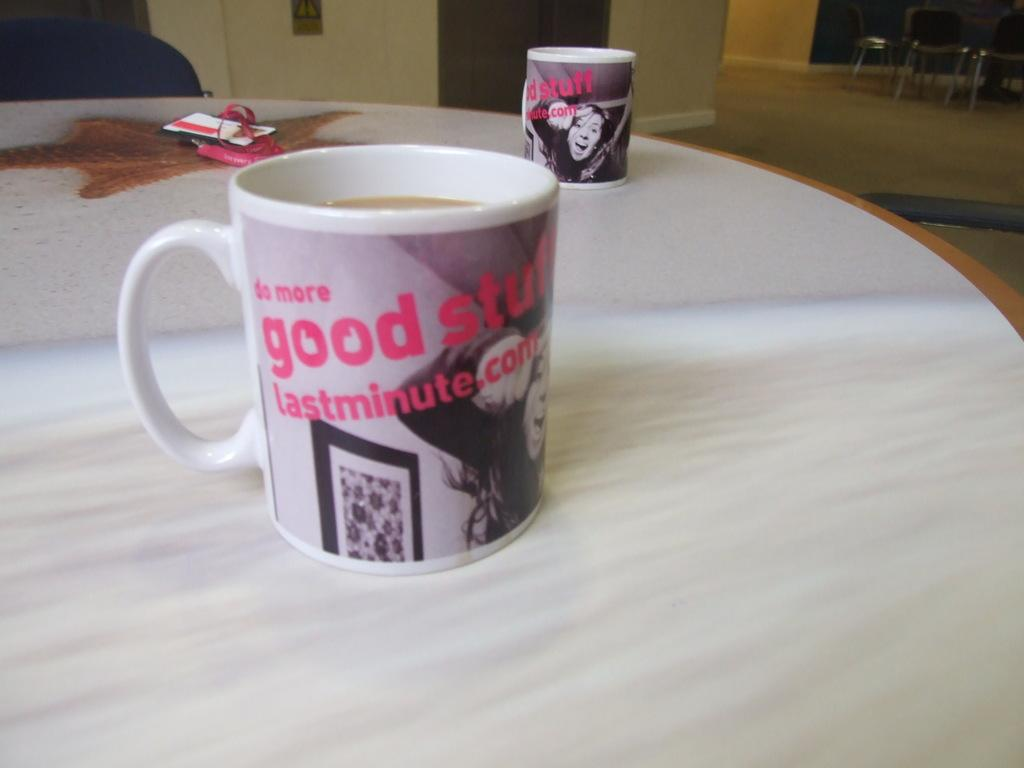Chair: (0, 14, 212, 100)
